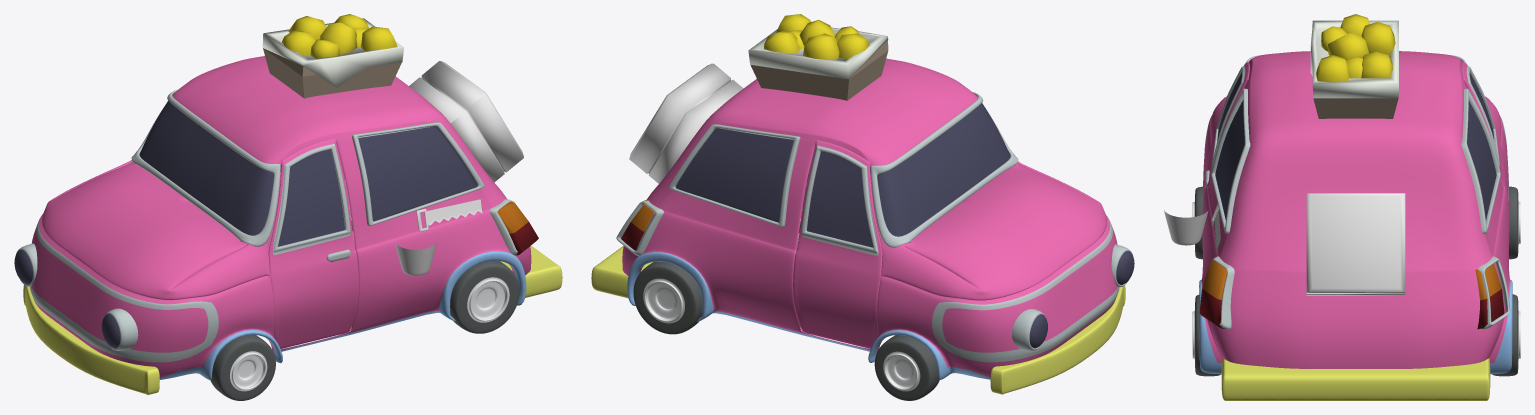
Rendered from car.glb.
3 renders of one model, left to right at view 1: azimuth 30°, elevation 25°; view 2: azimuth 150°, elevation 25°; view 3: azimuth 270°, elevation 25°, orthographic. The views are drawn at different scales.
Parts seen in each view (by area): view 1: car, door-2, window, Cube.002, wheel rear, Cube.003, wheel front, cloth, windscreen trim, basket, Cube.001, headlight case (+9 smaller); view 2: car, door-2, window, Cube.002, wheel rear, Cube.003, wheel front, basket, windscreen trim, cloth, Cube.001, headlight case (+6 smaller); view 3: car, Cube.002, Cube.001, window, cloth, door-2, tail-light, basket, tail-light trim, wheel rear, wheel front, Cube.004 (+6 smaller).
Boxes of the visible parts, x1,y1,x2,y2 form: car: [29, 56, 531, 380]; door-2: [268, 138, 358, 348]; window: [351, 122, 484, 225]; Cube.002: [409, 61, 523, 182]; wheel rear: [343, 171, 519, 333]; Cube.003: [23, 285, 159, 394]; wheel front: [210, 335, 275, 400]; cloth: [262, 18, 403, 87]; windscreen trim: [131, 89, 280, 246]; basket: [263, 48, 401, 98]; Cube.001: [500, 245, 562, 297]; headlight case: [15, 243, 138, 350]; car: [622, 58, 1119, 379]; door-2: [793, 89, 969, 348]; window: [668, 124, 800, 226]; Cube.002: [629, 63, 743, 183]; wheel rear: [633, 171, 809, 334]; Cube.003: [990, 285, 1125, 394]; wheel front: [874, 335, 939, 400]; basket: [750, 40, 888, 100]; windscreen trim: [870, 92, 1018, 247]; cloth: [748, 27, 888, 79]; Cube.001: [591, 246, 652, 298]; headlight case: [1012, 244, 1132, 350]; car: [1199, 51, 1512, 374]; Cube.002: [1306, 193, 1405, 295]; Cube.001: [1221, 358, 1490, 400]; window: [1211, 88, 1500, 233]; cloth: [1310, 20, 1398, 98]; door-2: [1202, 62, 1508, 209]; tail-light: [1199, 260, 1504, 329]; basket: [1313, 98, 1398, 118]; tail-light trim: [1212, 256, 1510, 329]; wheel rear: [1192, 294, 1520, 376]; wheel front: [1192, 186, 1520, 259]; Cube.004: [1164, 210, 1208, 245].
Bounding box in the file's own units: 4.44 × 2.74 × 2.88.
